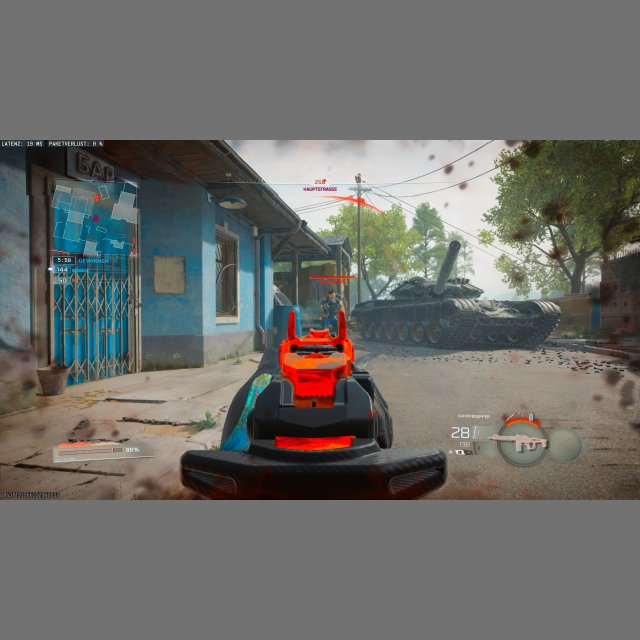head: (328, 290, 336, 299)
player: (321, 289, 344, 336)
